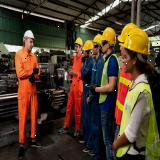Helmet: (120, 28, 150, 56), (118, 21, 138, 43), (102, 27, 117, 46), (22, 28, 36, 42), (92, 32, 104, 48), (83, 40, 93, 52), (75, 37, 83, 48)
Vest: (118, 81, 160, 160), (100, 54, 119, 107)
